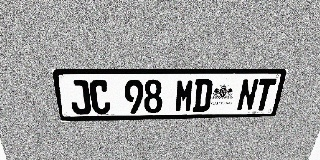8: (144, 79, 163, 113)
9: (124, 79, 144, 113)
C: (89, 80, 111, 114)
D: (192, 79, 213, 112)
J: (68, 80, 92, 115)
M: (174, 79, 195, 112)
N: (236, 79, 259, 111)
T: (253, 79, 277, 111)
